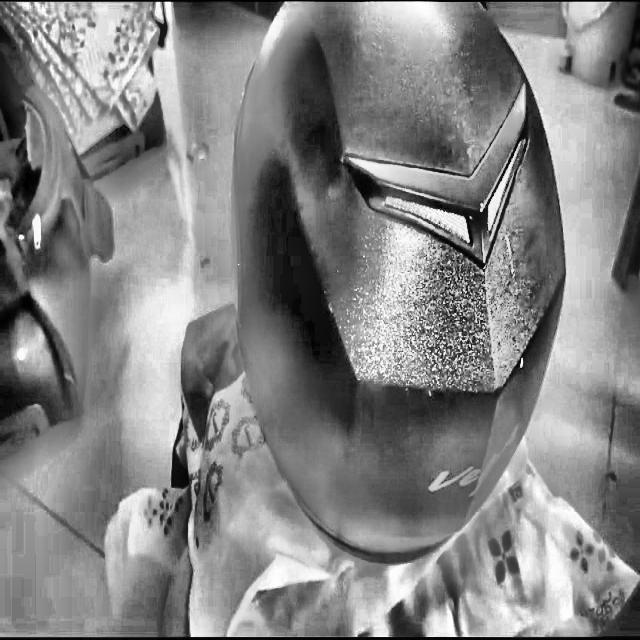Helmet: (225, 0, 572, 568)
